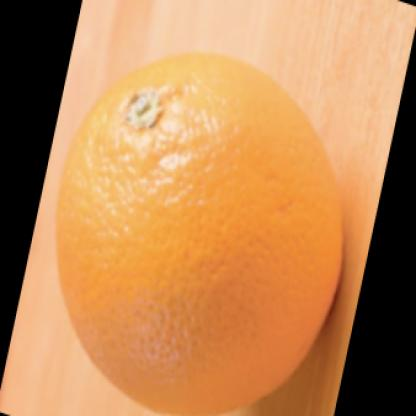fresh: (58, 57, 343, 416)
